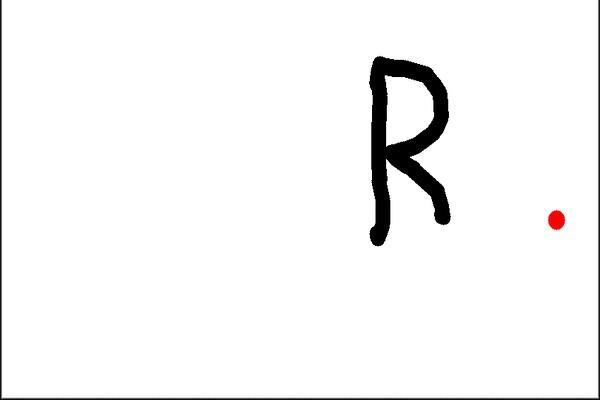R: (354, 49, 462, 248)
